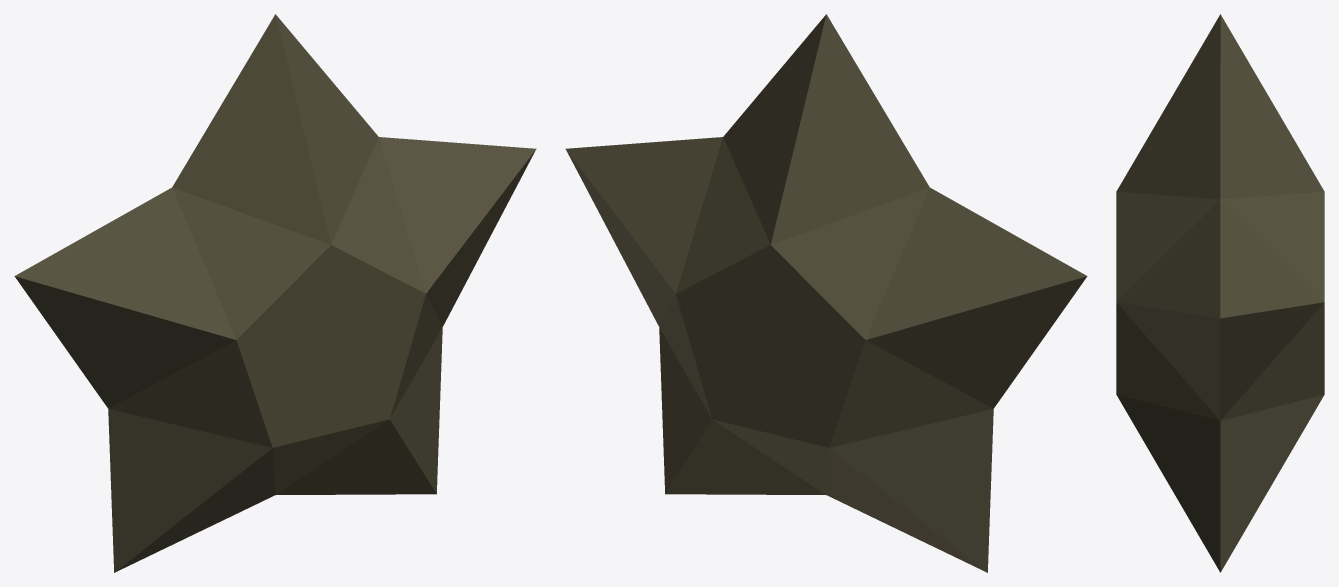
The model's file is Crystal Star.dae.
3 renders of one model, left to right at view 1: azimuth 30°, elevation 25°; view 2: azimuth 150°, elevation 25°; view 3: azimuth 270°, elevation 25°, orthographic. The views are drawn at different scales.
Visible parts, largest first — view 1: Outline; view 2: Outline; view 3: Outline.
Part boxes in pixels (<box>): Outline: <box>14,14,536,572</box>; Outline: <box>565,14,1087,572</box>; Outline: <box>1116,14,1324,572</box>.
Bounding box in the file's own units: 15.01 × 14.27 × 5.55.
4 materials, 4 textured.
